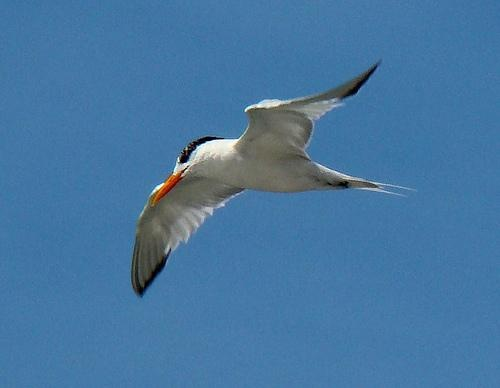bird: (122, 59, 394, 294)
